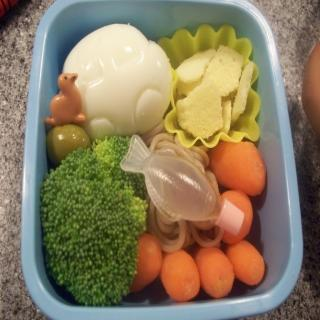Broccoli: (37, 132, 154, 303)
Carrot: (207, 144, 270, 197), (192, 244, 235, 300), (159, 250, 200, 302), (224, 238, 268, 285), (131, 232, 164, 293), (222, 189, 252, 243)
